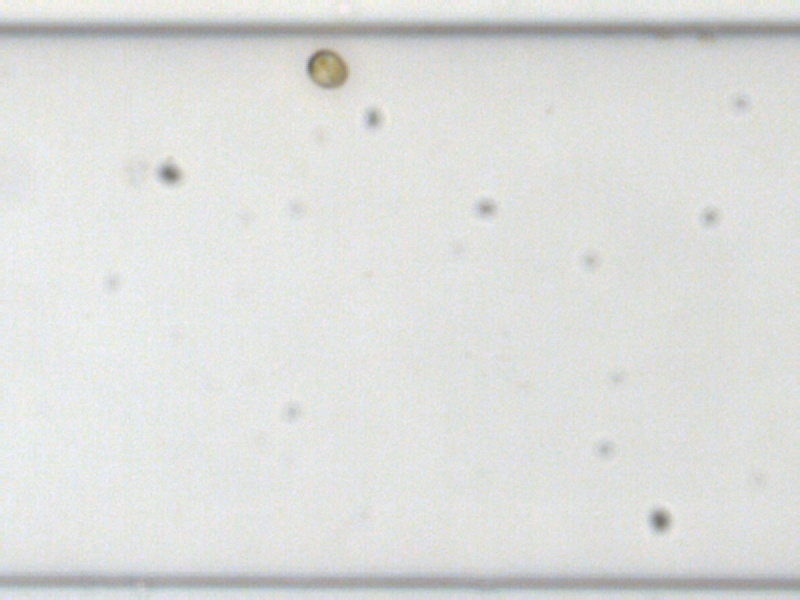Effrenium: (306, 48, 349, 88)
